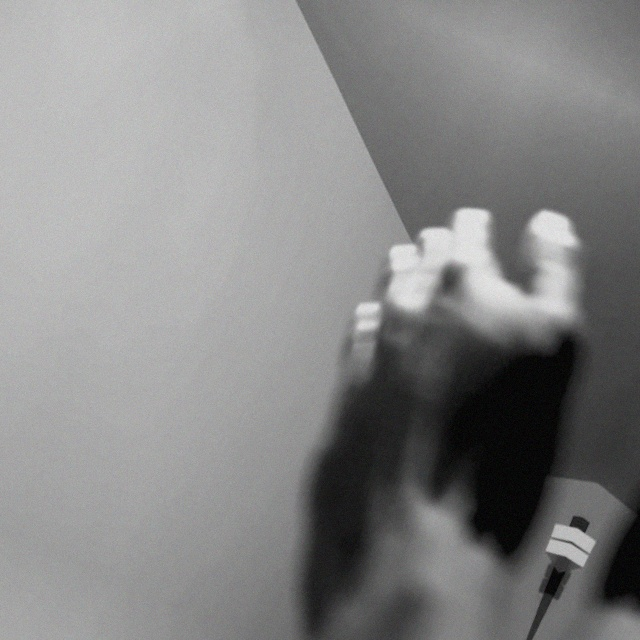Paper: (228, 140, 640, 640)
